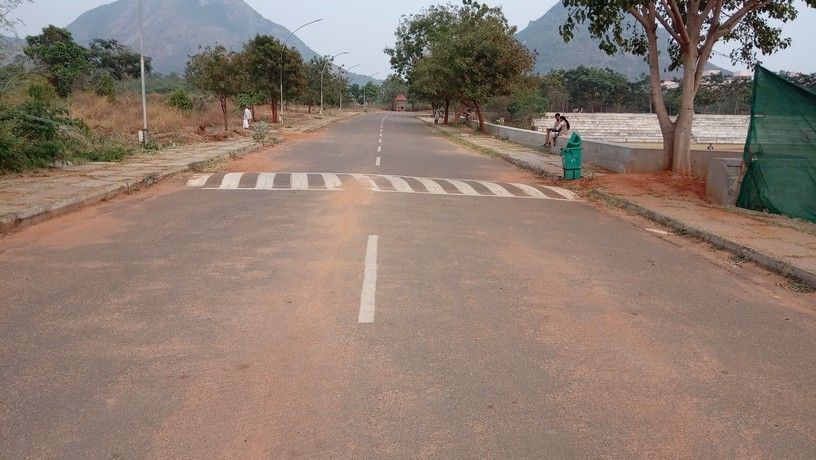bump: (184, 169, 582, 201)
